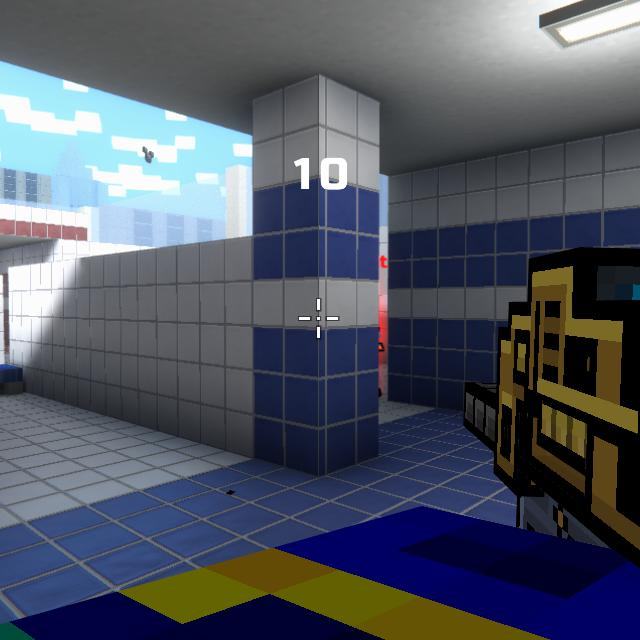Enemy: (378, 327, 385, 398)
